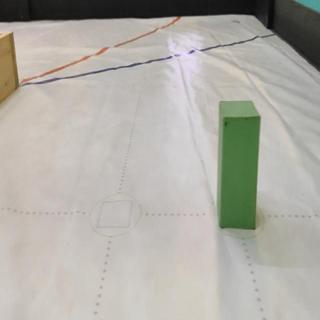greenbox: (217, 100, 262, 229)
